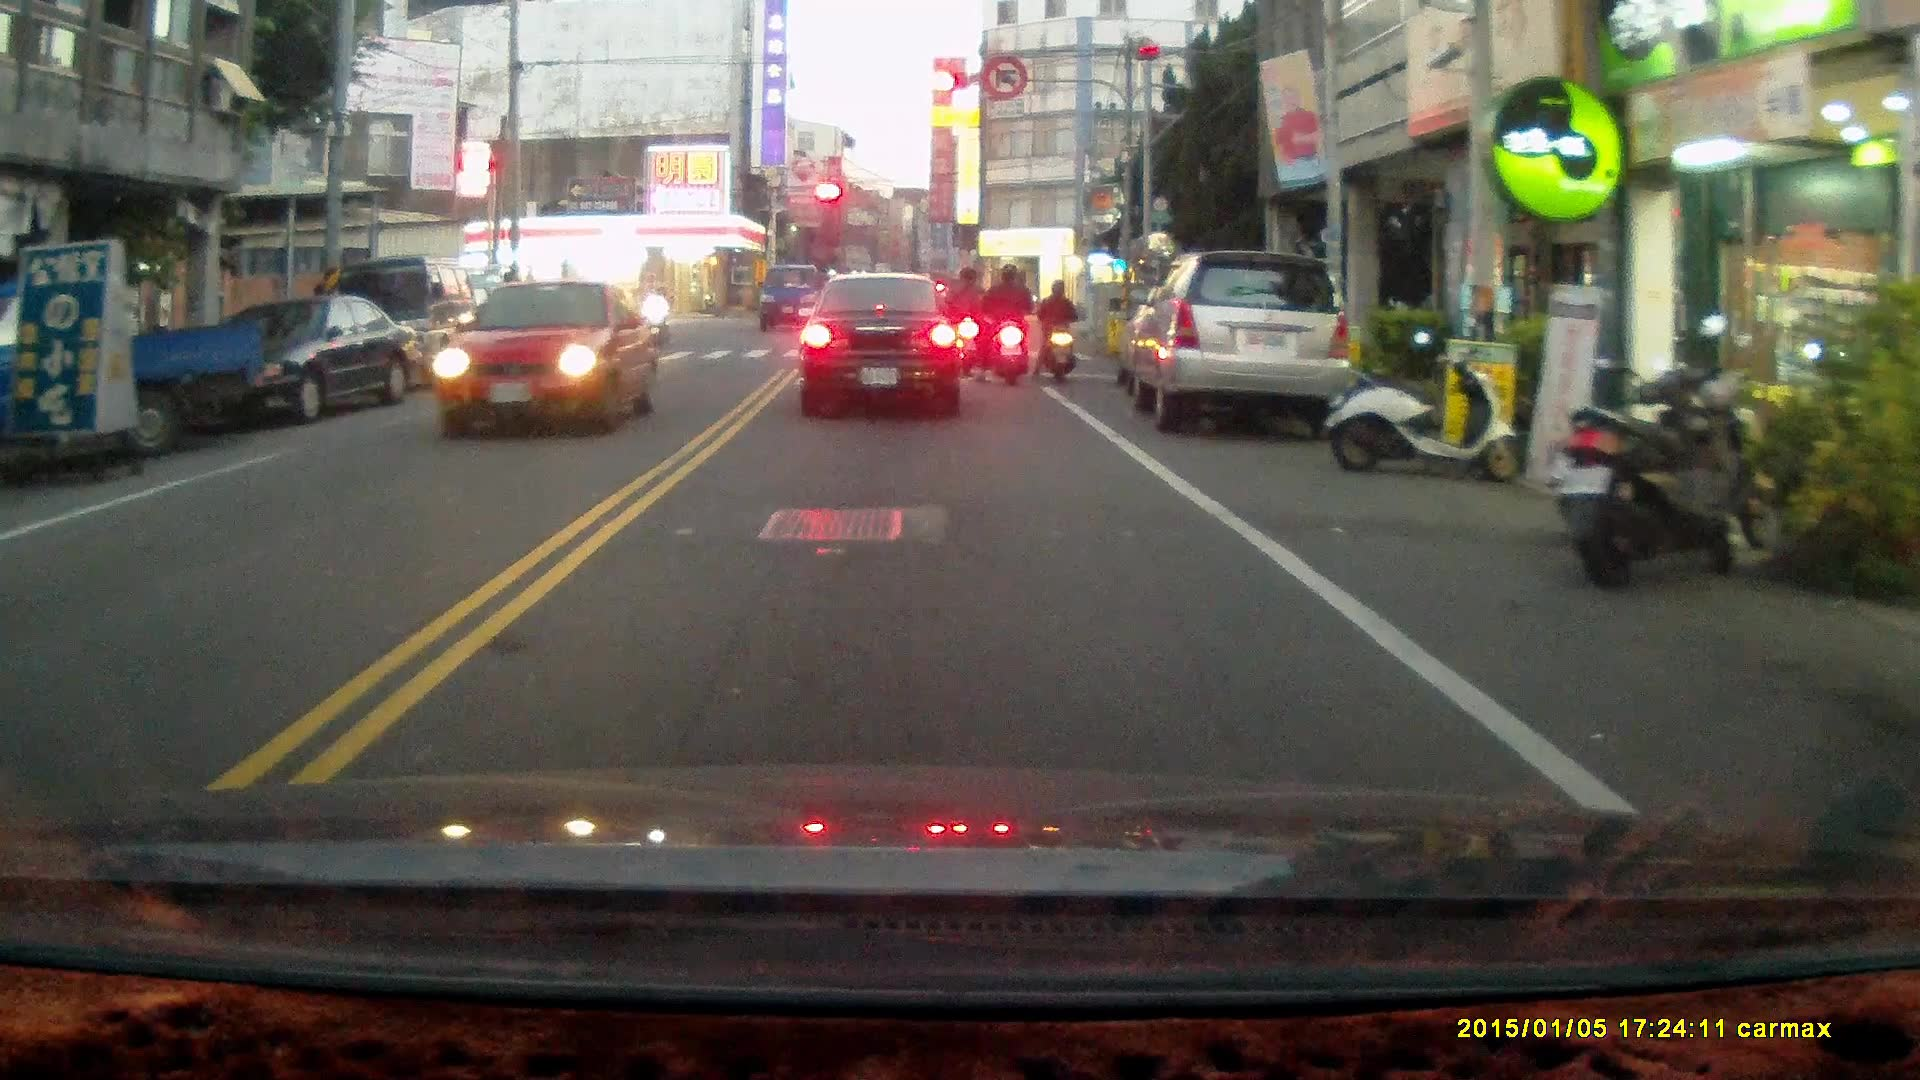rider: (976, 263, 1034, 390), (1031, 276, 1079, 385), (939, 265, 982, 377), (641, 280, 673, 344)
vehicle: (1123, 249, 1362, 439), (421, 276, 660, 437), (166, 293, 415, 423), (798, 269, 962, 420), (315, 253, 478, 395)
